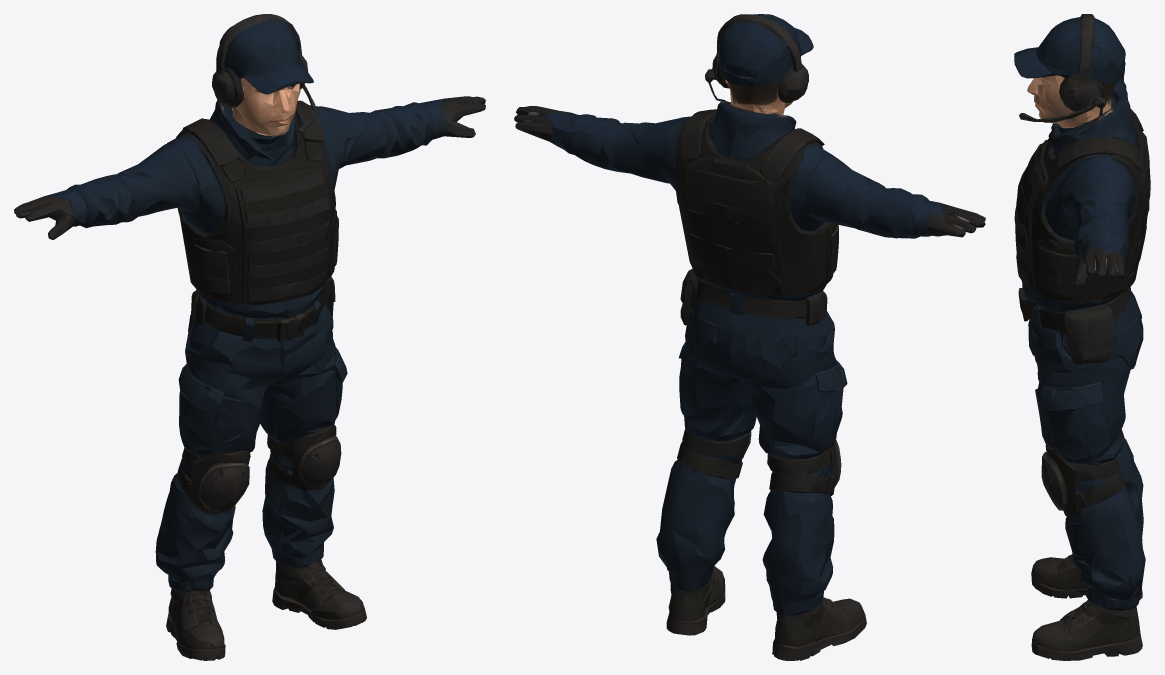
The model's file is cop.fbx.
3 views of the same model, side by side, from view 1: azimuth 30°, elevation 25°; view 2: azimuth 150°, elevation 25°; view 3: azimuth 270°, elevation 25° (orthographic).
Visible parts, largest first — view 1: char1; view 2: char1; view 3: char1.
Boxes of the visible parts, x1=… form: char1: x1=14, y1=14, x2=485, y2=660; char1: x1=514, y1=14, x2=985, y2=660; char1: x1=1014, y1=14, x2=1150, y2=660.
Bounding box in the file's own units: 144 × 180 × 36.82.
1 material, 1 textured.
